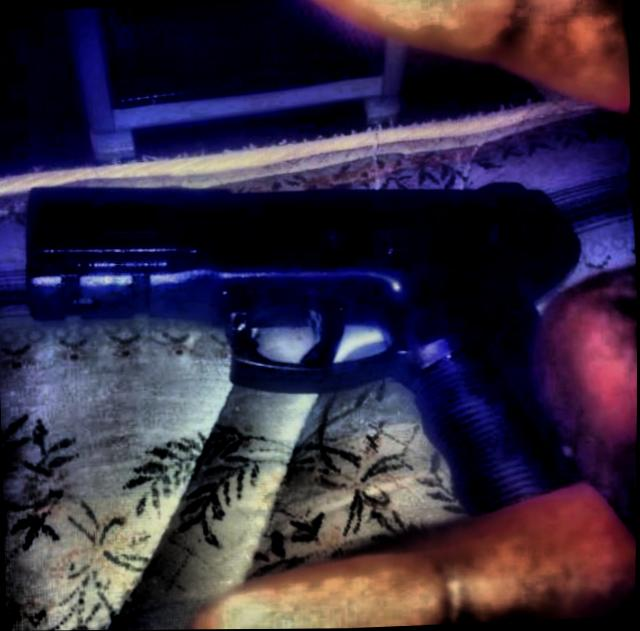pistol: (20, 162, 599, 541)
